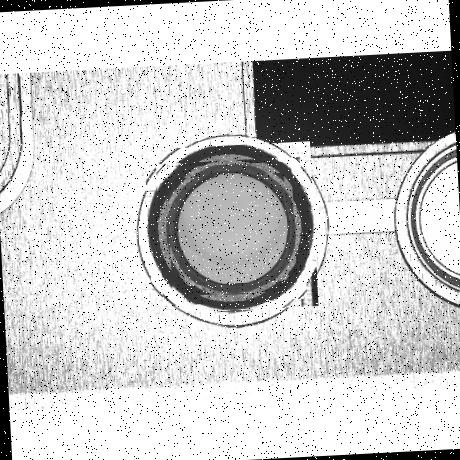Hole: (144, 141, 318, 315)
Hole2: (156, 156, 306, 306)
Hole3: (165, 161, 297, 297)
Hole4: (174, 172, 288, 286)
